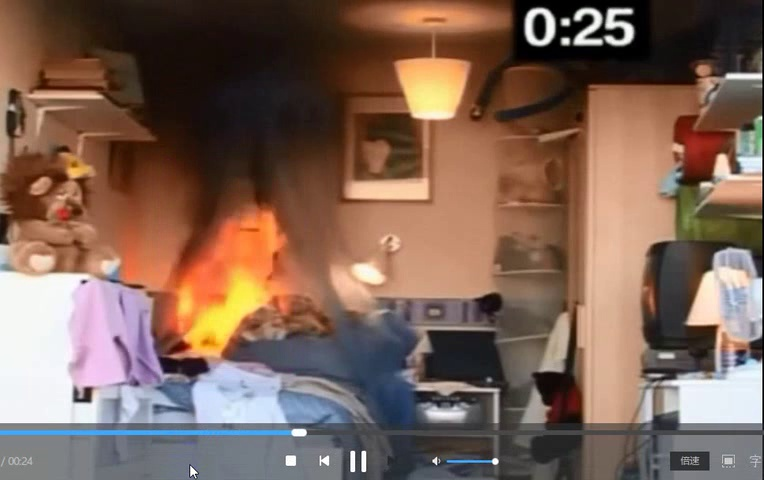fire: (158, 192, 293, 362)
